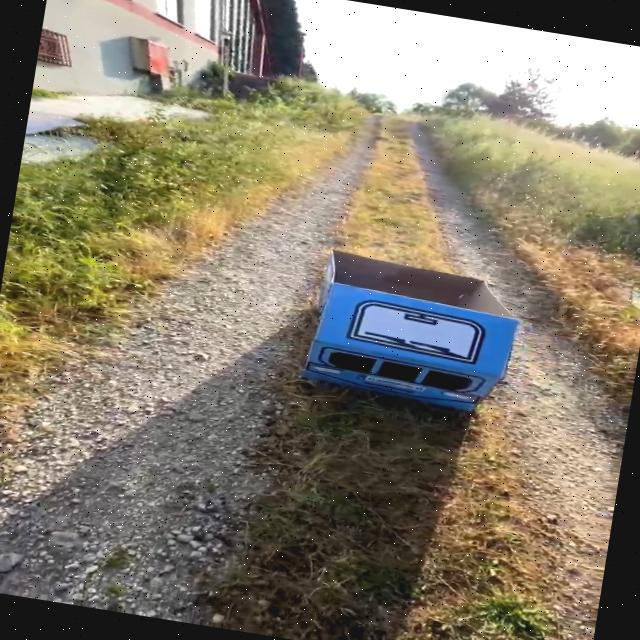blue_car: (225, 213, 553, 439)
